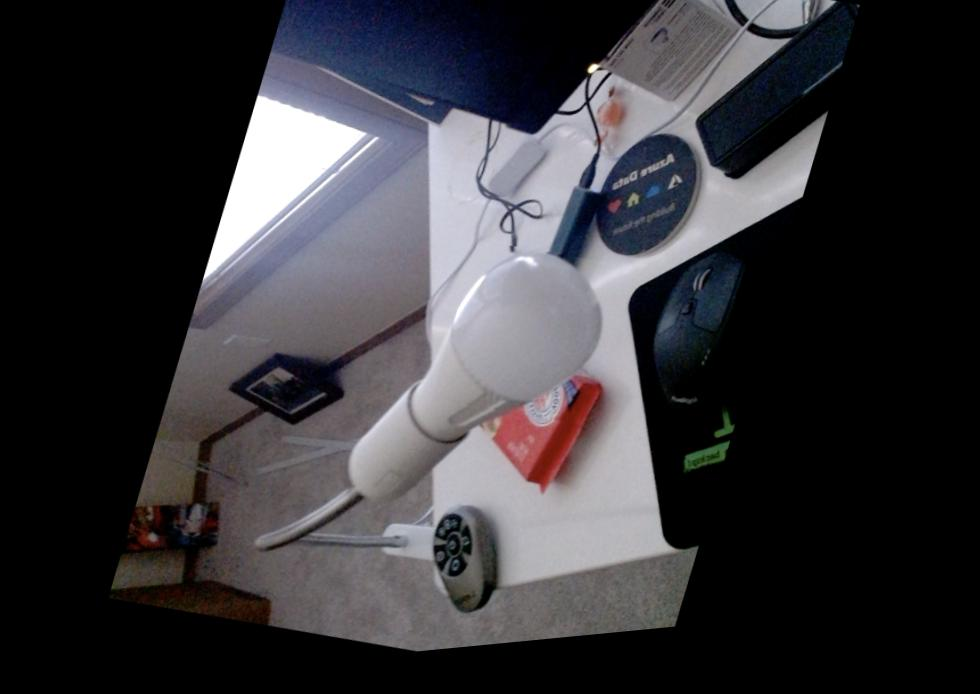Fan: (435, 237, 631, 447)
